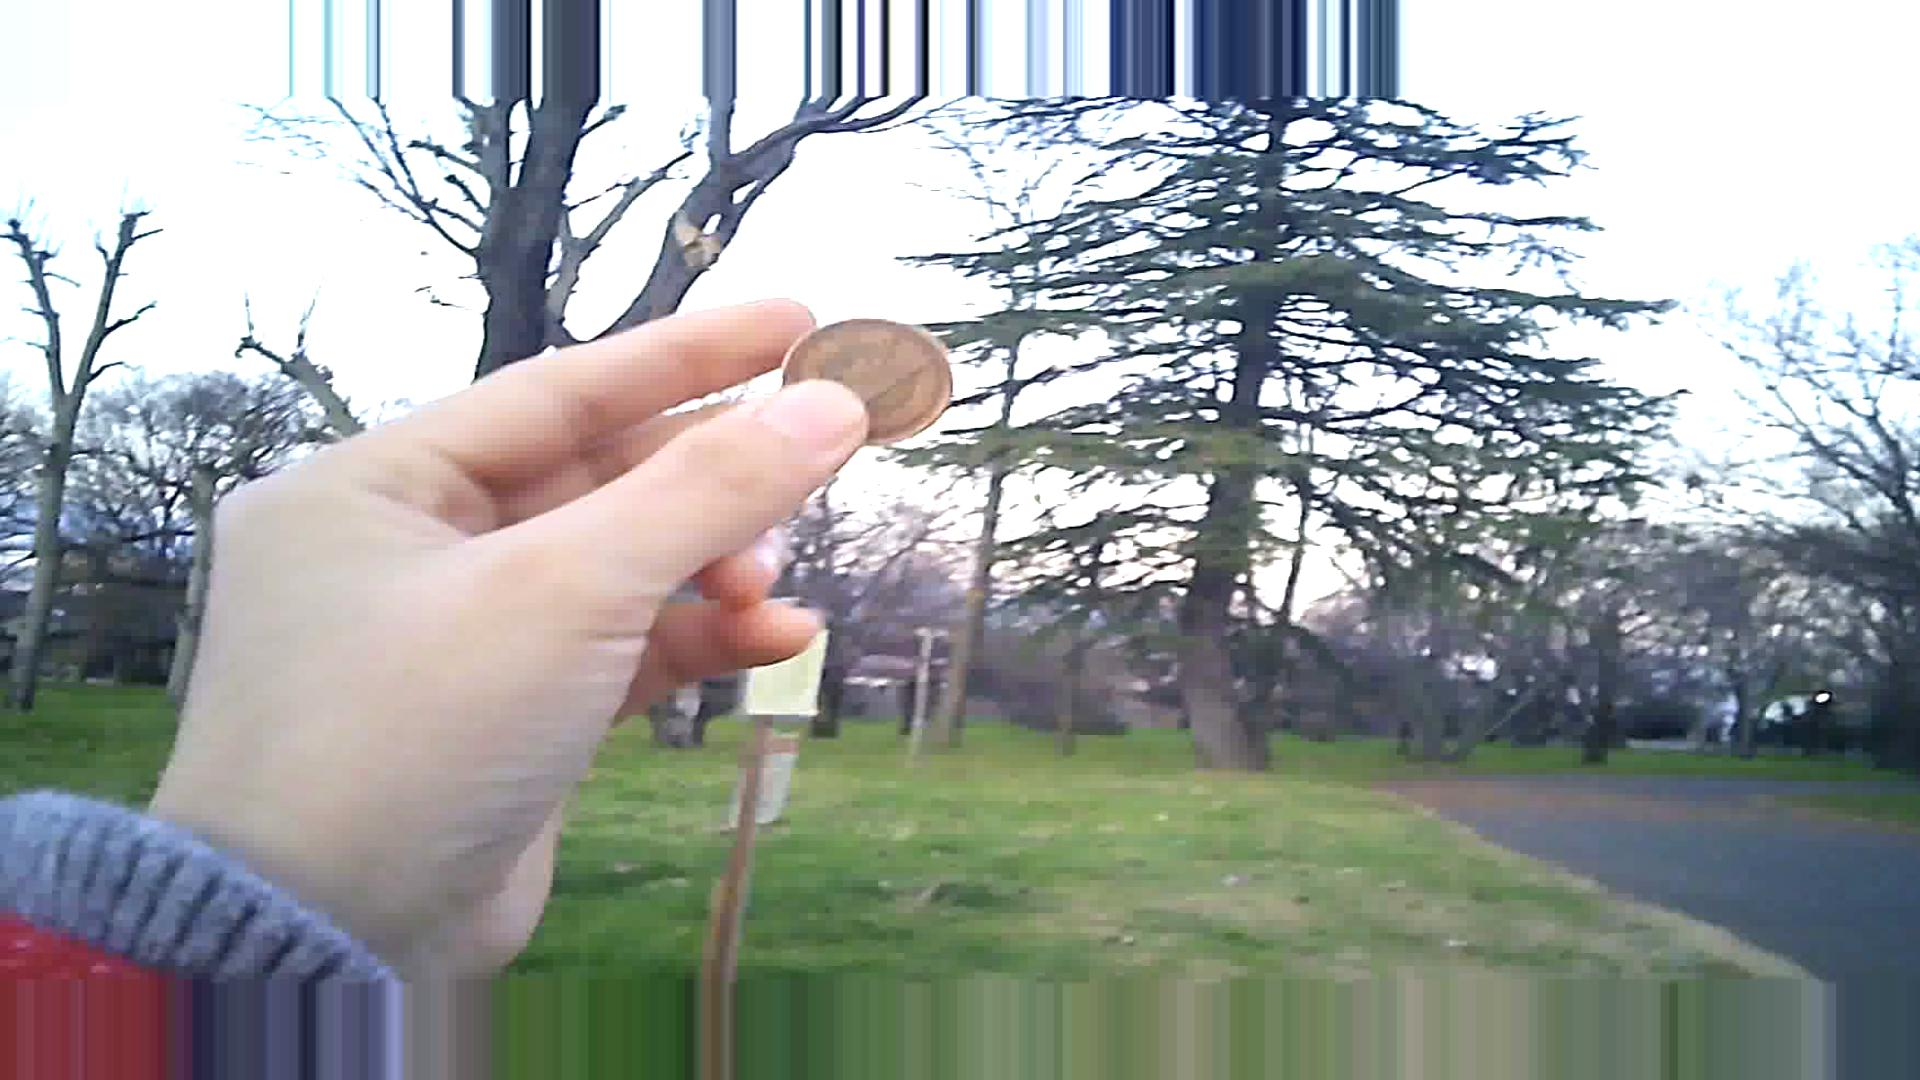10 Yen: (777, 297, 955, 444)
